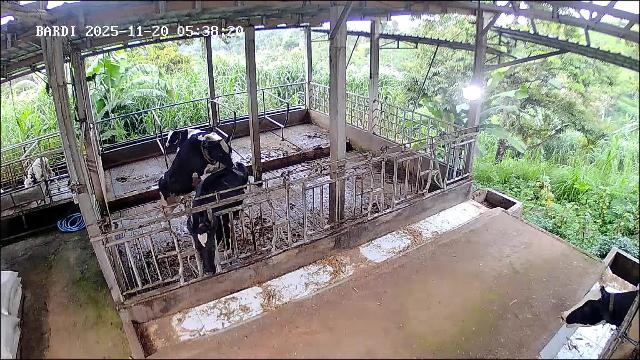mounting: (156, 138, 234, 219)
